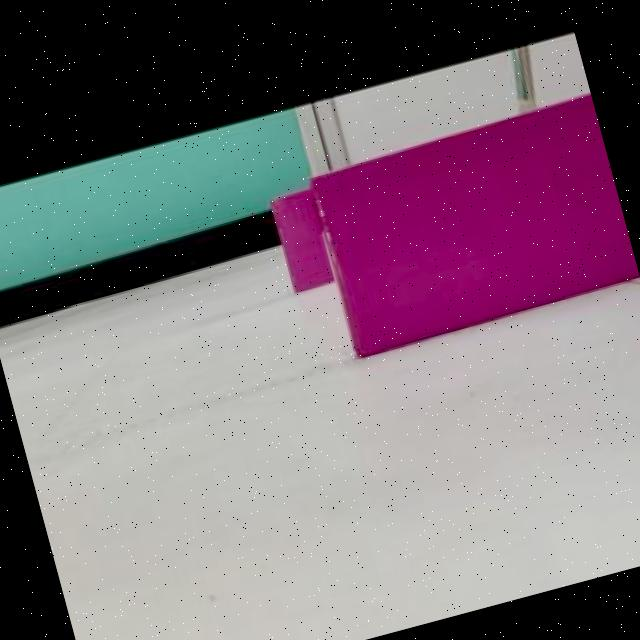xparking: (310, 102, 638, 352), (270, 192, 329, 290)
